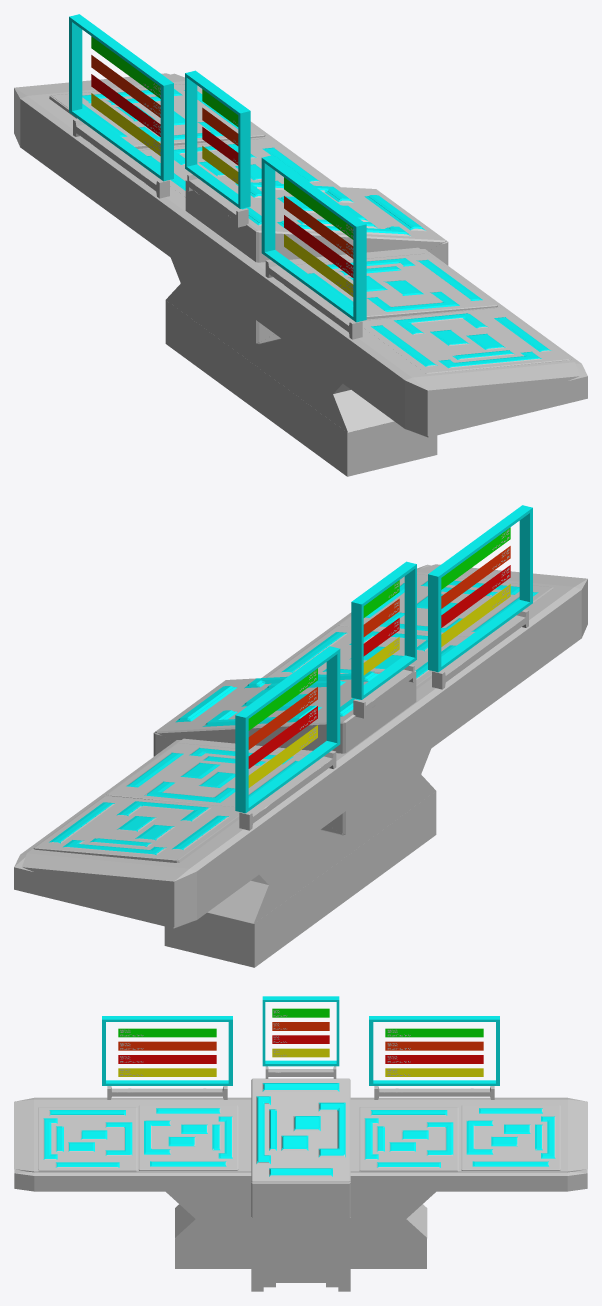
File: Intel Desk 3.0.obj
The picture shows the model from 3 angles, top to bottom: view 1: azimuth 30°, elevation 25°; view 2: azimuth 150°, elevation 25°; view 3: azimuth 270°, elevation 25°; orthographic projection. The views are drawn at different scales.
Visible parts, largest first — view 1: Cylinder, Cube.008, Cylinder.001, Cylinder.002, Cube.003, Cube.002, Cylinder.003, Cube, Cube.004, Cylinder.004, Cylinder.005, Cube.006 (+2 smaller); view 2: Cylinder, Cube.008, Cylinder.001, Cylinder.004, Cube.002, Cube.003, Cylinder.005, Cube, Cube.004, Cylinder.003, Cylinder.002, Cube.005 (+2 smaller); view 3: Cylinder, Cylinder.001, Cube, Cylinder.003, Cube.001, Cylinder.004, Cylinder.005, Cylinder.002, Cube.003, Cube.002, Cube.008, Cube.004 (+3 smaller).
Part boxes in pixels (x1,y1,x2,y2): Cylinder: (14, 73, 587, 437); Cube.008: (165, 300, 437, 476); Cylinder.001: (185, 180, 448, 344); Cylinder.002: (362, 307, 571, 373); Cube.003: (261, 155, 366, 322); Cube.002: (69, 14, 173, 181); Cylinder.003: (296, 253, 497, 319); Cube: (166, 258, 350, 432); Cube.004: (185, 70, 250, 208); Cylinder.004: (49, 84, 265, 148); Cylinder.005: (140, 138, 335, 197); Cube.006: (265, 259, 362, 339); Cylinder: (14, 564, 587, 928); Cube.008: (164, 791, 436, 967); Cylinder.001: (153, 671, 416, 835); Cylinder.004: (33, 796, 239, 862); Cube.002: (235, 646, 340, 813); Cube.003: (428, 505, 532, 672); Cylinder.005: (106, 743, 306, 806); Cube: (255, 749, 435, 923); Cube.004: (351, 561, 416, 699); Cylinder.003: (266, 625, 468, 689); Cylinder.002: (338, 574, 553, 636); Cube.005: (239, 750, 336, 830); Cylinder: (14, 1097, 587, 1191); Cylinder.001: (251, 1078, 350, 1221); Cube: (166, 1191, 435, 1238); Cylinder.003: (138, 1105, 238, 1170); Cube.001: (251, 1217, 350, 1291); Cylinder.004: (461, 1105, 560, 1170); Cylinder.005: (359, 1107, 458, 1172); Cylinder.002: (38, 1107, 137, 1172); Cube.003: (102, 1016, 232, 1085); Cube.002: (369, 1016, 499, 1085); Cube.008: (175, 1204, 427, 1268); Cube.004: (262, 996, 339, 1066).
Size of the model in its own units: 1.35 by 2.11 by 4.83.
